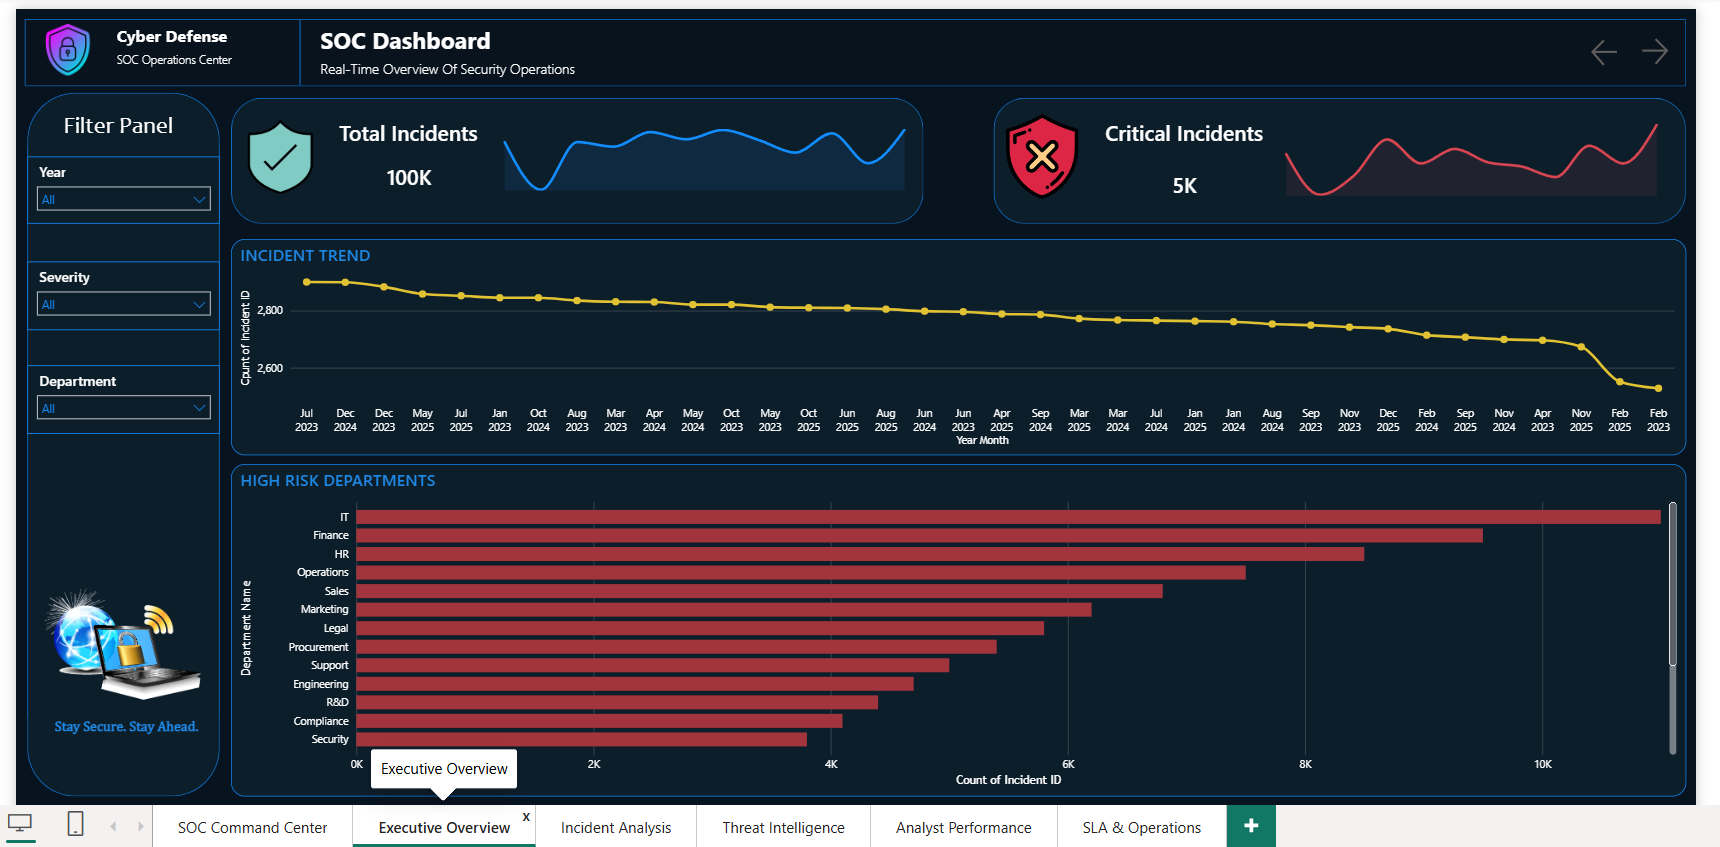

Layout of this report page (visuals, bound fields, positions):
{"tool":"powerbi","page":{"name":"Executive Overview","canvas":[1920,1080],"ordinal":1},"visuals":[{"type":"shape","box":[245.7,101.4,791.4,144.3],"z":0},{"type":"shape","box":[10,12,315,77],"z":1000,"group":"g2"},{"type":"shape","box":[1117.1,101.4,791.4,144.3],"z":1000},{"type":"group","id":"g1","title":"Group 8","box":[324.3,11.4,1584.3,77.1],"z":2000},{"type":"textbox","title":"Cyber Defense","box":[110,17,154,30],"z":2000,"group":"g2"},{"type":"group","id":"g2","title":"Group 7","box":[10,12,315,77],"z":3000},{"type":"textbox","title":"SOC Operations Center","box":[110,49,195,27],"z":3000,"group":"g2"},{"type":"image","box":[17,14,84,67],"z":4000,"group":"g2"},{"type":"actionButton","box":[1852.9,28.6,42.9,40],"z":4000},{"type":"shape","box":[324.3,11.4,1584.3,77.1],"z":5000,"group":"g1"},{"type":"actionButton","box":[1795.7,30,42.9,40],"z":5000},{"type":"textbox","title":"SOC Dashboard","box":[342.7,16.4,389.8,64.1],"z":6000,"group":"g1"},{"type":"cardVisual","title":"Total Incidents","fields":{"Data":["CountNonNull(Incident.IncidentID)"]},"box":[342.9,125.7,211.4,95.7],"z":6000},{"type":"textbox","title":"Real-Time Overview Of Security Operations","box":[342.7,56.5,632.4,24],"z":7000,"group":"g1"},{"type":"image","box":[245.7,112.9,112.9,112.9],"z":7000},{"type":"lineChart","fields":{"Category":["Date.Date.Variation.Date Hierarchy.Month"],"Y":["Analyst.Total Incidents"]},"box":[537.1,124.3,500,88.6],"z":8000},{"type":"image","box":[1117.1,120,111.4,97.1],"z":9000},{"type":"cardVisual","title":"Critical Incidents","fields":{"Data":["Analyst.Critical Incidents"]},"box":[1217.1,125.7,235.7,112.9],"z":10000},{"type":"lineChart","fields":{"Category":["Date.Date.Variation.Date Hierarchy.Month"],"Y":["Analyst.Critical Incidents"]},"box":[1431.4,118.6,464.3,100],"z":11000},{"type":"shape","box":[12.9,95.7,220,804.3],"z":12000},{"type":"shape","title":"Filter Panel","box":[54.3,115.7,132.9,35.7],"z":13000},{"type":"slicer","fields":{"Values":["Date.Year"]},"box":[12.9,168.6,220,77.1],"z":14000},{"type":"image","box":[32.9,661.4,178.6,128.6],"z":15000},{"type":"shape","title":"Stay Secure. Stay Ahead.","box":[44.3,811.4,187.1,32.9],"z":16000},{"type":"slicer","fields":{"Values":["Incident.Severity"]},"box":[12.9,288.6,220,78.6],"z":17000},{"type":"slicer","fields":{"Values":["Department.DepartmentName"]},"box":[12.9,407.1,220,78.6],"z":18000},{"type":"lineChart","title":"INCIDENT TREND","fields":{"Y":["CountNonNull(Incident.IncidentID)"],"Category":["Date.YearMonth"]},"box":[245.7,262.9,1662.9,247.1],"z":19000},{"type":"barChart","title":"HIGH RISK DEPARTMENTS","fields":{"Category":["Department.DepartmentName"],"Y":["CountNonNull(Incident.IncidentID)"]},"box":[245.7,520,1662.9,380],"z":20000}]}

Visuals, with their boxes on the page's 1920x1080 design canvas (x1, y1, x2, y2). These are canvas units, not pixel positions in the 1720x847 screenshot, which may show the page scaled, cropped or inside an application window:
shape: <region>246, 101, 1037, 246</region>
shape: <region>10, 12, 325, 89</region>
shape: <region>1117, 101, 1908, 246</region>
"Group 8" group: <region>324, 11, 1909, 88</region>
"Cyber Defense" textbox: <region>110, 17, 264, 47</region>
"Group 7" group: <region>10, 12, 325, 89</region>
"SOC Operations Center" textbox: <region>110, 49, 305, 76</region>
image: <region>17, 14, 101, 81</region>
actionButton: <region>1853, 29, 1896, 69</region>
shape: <region>324, 11, 1909, 88</region>
actionButton: <region>1796, 30, 1839, 70</region>
"SOC Dashboard" textbox: <region>343, 16, 732, 80</region>
"Total Incidents" cardVisual: <region>343, 126, 554, 221</region>
"Real-Time Overview Of Security Operations" textbox: <region>343, 56, 975, 80</region>
image: <region>246, 113, 359, 226</region>
lineChart - Date.Date.Variation.Date Hierarchy.Month x Analyst.Total Incidents: <region>537, 124, 1037, 213</region>
image: <region>1117, 120, 1228, 217</region>
"Critical Incidents" cardVisual: <region>1217, 126, 1453, 239</region>
lineChart - Date.Date.Variation.Date Hierarchy.Month x Analyst.Critical Incidents: <region>1431, 119, 1896, 219</region>
shape: <region>13, 96, 233, 900</region>
"Filter Panel" shape: <region>54, 116, 187, 151</region>
slicer - Date.Year: <region>13, 169, 233, 246</region>
image: <region>33, 661, 212, 790</region>
"Stay Secure. Stay Ahead." shape: <region>44, 811, 231, 844</region>
slicer - Incident.Severity: <region>13, 289, 233, 367</region>
slicer - Department.DepartmentName: <region>13, 407, 233, 486</region>
"INCIDENT TREND" lineChart: <region>246, 263, 1909, 510</region>
"HIGH RISK DEPARTMENTS" barChart: <region>246, 520, 1909, 900</region>
